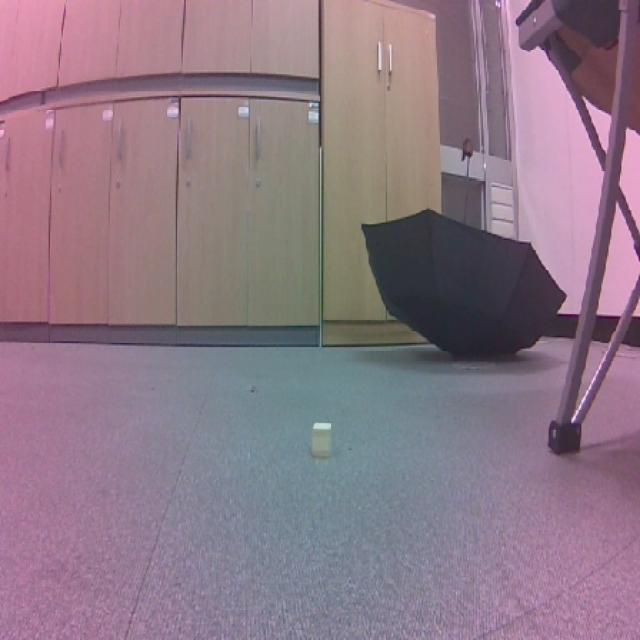obstacle: (304, 411, 340, 465)
